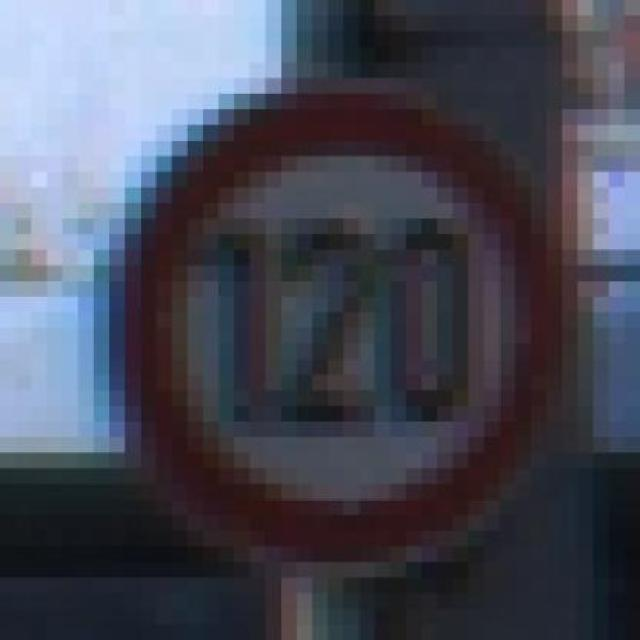forb_speed_over_120: (117, 94, 557, 560)
